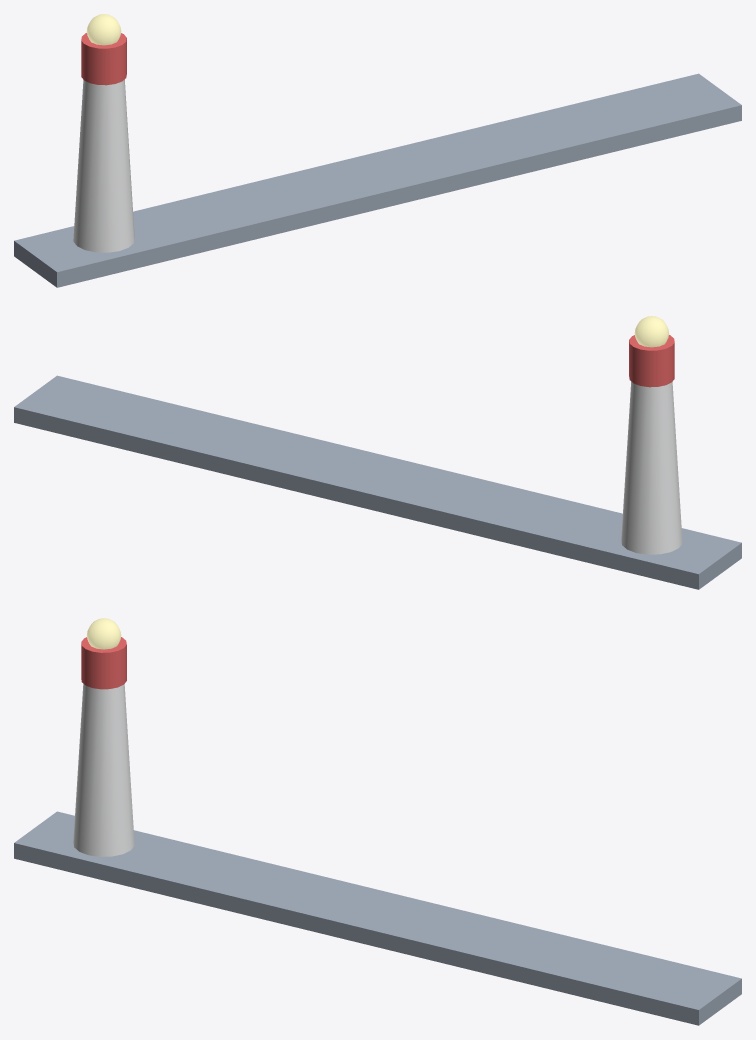
File: lighthouse.glb
The picture shows the model from 3 angles, top to bottom: view 1: azimuth 30°, elevation 25°; view 2: azimuth 150°, elevation 25°; view 3: azimuth 330°, elevation 25°; orthographic projection.
Parts seen in each view (by area): view 1: spit, tower, redTop, beacon; view 2: spit, tower, redTop, beacon; view 3: spit, tower, redTop, beacon.
Part boxes in pixels (x1,y1,x2,y2): spit: (14, 73, 741, 287); tower: (73, 79, 134, 252); redTop: (81, 33, 126, 85); beacon: (86, 14, 121, 45); spit: (14, 375, 741, 589); tower: (621, 381, 682, 554); redTop: (629, 335, 674, 387); beacon: (634, 316, 669, 347); spit: (14, 811, 741, 1025); tower: (73, 684, 134, 856); redTop: (81, 637, 126, 689); beacon: (87, 618, 121, 649).
Bounding box in the file's own units: 55 × 18.4 × 6.
